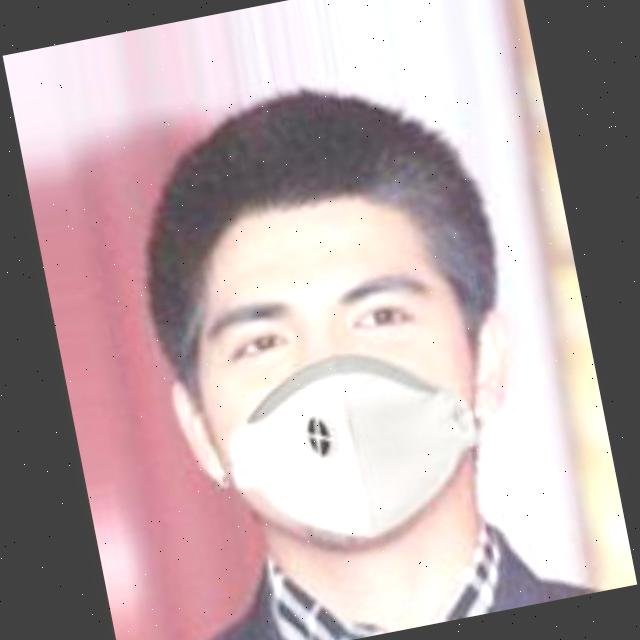suspicion: (112, 106, 550, 552)
